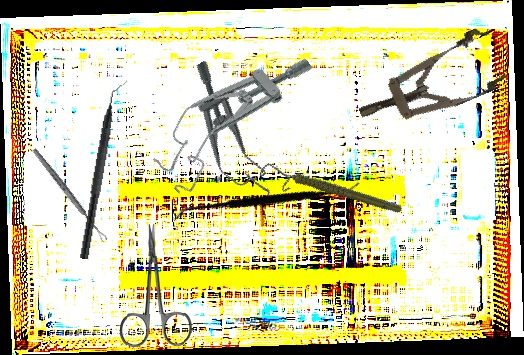Chopper: (79, 77, 130, 262)
Handpiece: (272, 138, 405, 239)
Iris Scissors: (117, 222, 193, 348)
Spatula Surgical: (171, 111, 363, 293)
Speculum: (139, 27, 323, 200), (166, 53, 296, 216), (347, 24, 511, 142)
Surgical Spoon: (31, 147, 108, 243)
